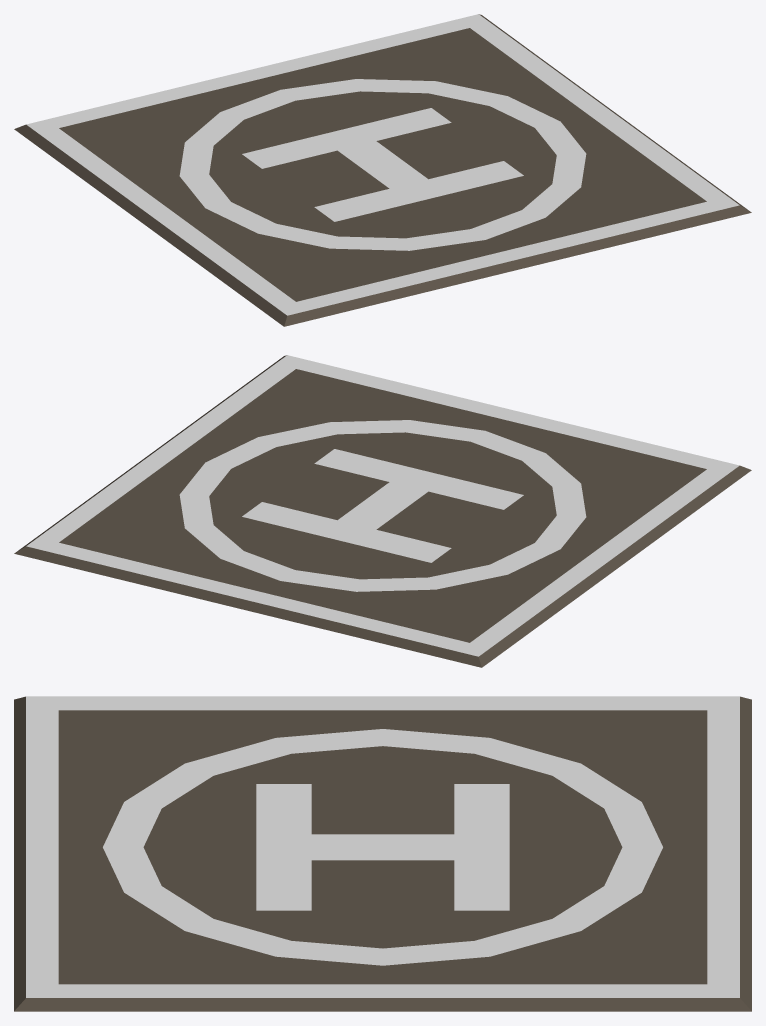
File: HeliLanding_1_C.fbx
3 views of the same model, one above another, from view 1: azimuth 30°, elevation 25°; view 2: azimuth 150°, elevation 25°; view 3: azimuth 270°, elevation 25° (orthographic). The views are drawn at different scales.
Parts seen in each view (by area): view 1: HeliLanding_1_C; view 2: HeliLanding_1_C; view 3: HeliLanding_1_C.
Boxes of the visible parts, x1,y1,x2,y2 form: HeliLanding_1_C: (14,14,751,326); HeliLanding_1_C: (14,355,751,667); HeliLanding_1_C: (14,696,751,1011).
Bounding box in the file's own units: 460 × 5.67 × 460.
